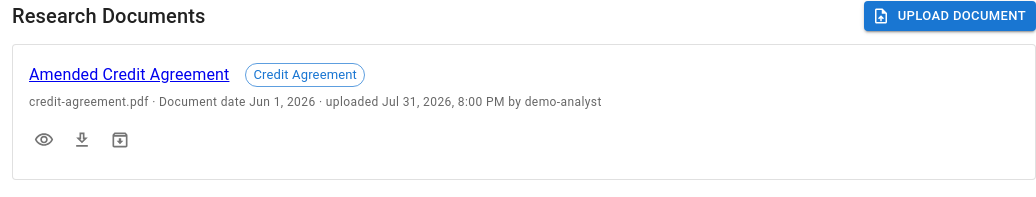
Test: ResearchDocumentsSection › marks a document as archived and hides the Archive action after clicking Archive
The image size is (1036, 197).
What coordinates should you click on to do the following:
click the button named "Archive document"
I would click on:
 (120, 140)
Its box is [105, 125, 135, 155].
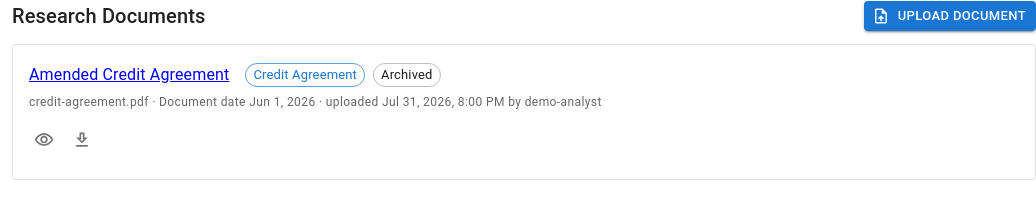
Check: the text "Archived" is shown, box [381, 67, 432, 82]
